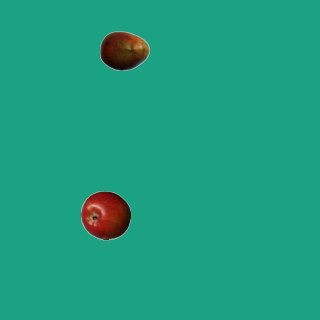Apple Braeburn: (80, 190, 130, 240)
Mango Red: (99, 25, 149, 75)
